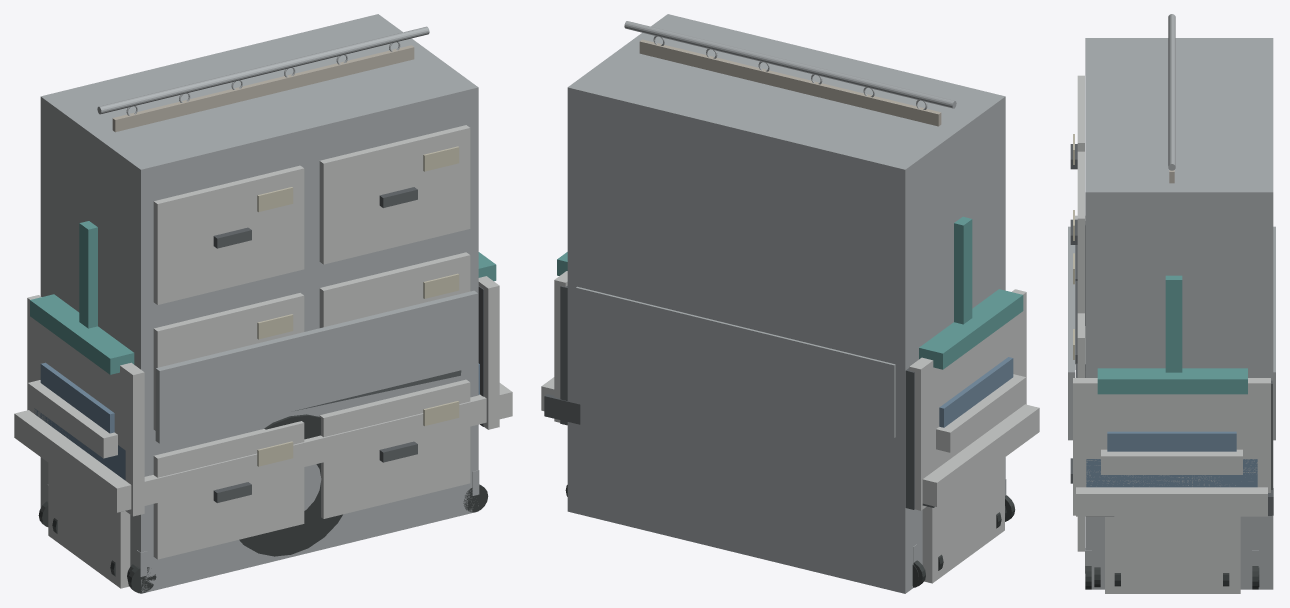
Rendered from props.glb.
3 views of the same model, side by side, from view 1: azimuth 30°, elevation 25°; view 2: azimuth 150°, elevation 25°; view 3: azimuth 270°, elevation 25° (orthographic). The views are drawn at different scales.
Visible parts, largest first — view 1: 12_morgue_freezer_unit, 01_hospital_bed, 09_nurse_station_desk, 29_blood_stained_curtain, 03_stretcher_trolley, 27_broken_wheelchair, 35_hospital_signboard, 28_damaged_hospital_bed; view 2: 12_morgue_freezer_unit, 01_hospital_bed, 09_nurse_station_desk, 29_blood_stained_curtain, 03_stretcher_trolley, 28_damaged_hospital_bed, 35_hospital_signboard; view 3: 12_morgue_freezer_unit, 01_hospital_bed, 09_nurse_station_desk, 03_stretcher_trolley, 35_hospital_signboard, 29_blood_stained_curtain, 28_damaged_hospital_bed.
Boxes of the visible parts, x1,y1,x2,y2 form: 12_morgue_freezer_unit: (40, 14, 478, 593); 01_hospital_bed: (14, 276, 512, 593); 09_nurse_station_desk: (30, 252, 496, 588); 29_blood_stained_curtain: (97, 26, 429, 132); 03_stretcher_trolley: (27, 362, 117, 576); 27_broken_wheelchair: (239, 414, 342, 556); 35_hospital_signboard: (79, 221, 97, 328); 28_damaged_hospital_bed: (127, 286, 483, 580); 12_morgue_freezer_unit: (567, 14, 1005, 593); 01_hospital_bed: (541, 271, 1039, 587); 09_nurse_station_desk: (557, 252, 1023, 583); 29_blood_stained_curtain: (624, 21, 956, 126); 03_stretcher_trolley: (936, 357, 1026, 570); 28_damaged_hospital_bed: (544, 285, 1006, 585); 35_hospital_signboard: (954, 216, 972, 324); 12_morgue_freezer_unit: (1070, 38, 1273, 589); 01_hospital_bed: (1068, 215, 1275, 589); 09_nurse_station_desk: (1097, 368, 1247, 593); 03_stretcher_trolley: (1101, 431, 1242, 586); 35_hospital_signboard: (1165, 275, 1182, 372); 29_blood_stained_curtain: (1168, 14, 1175, 183); 28_damaged_hospital_bed: (1075, 225, 1273, 587).
Size of the model in its own units: 2.05 by 2.24 by 0.995.
